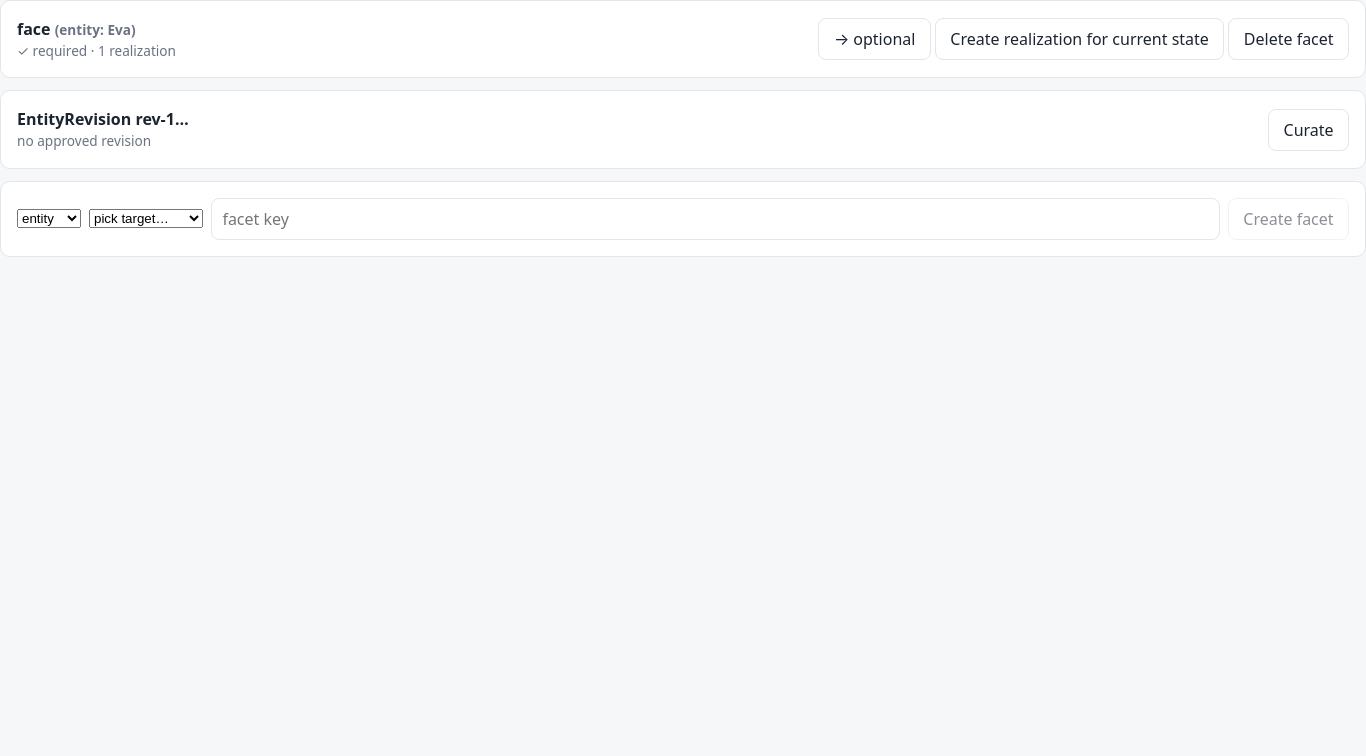
Test: AnchorCuration working-set editor (M8 §70) › loads working state, revisions, and separates approved authority
Click the button "Curate".
click(1309, 130)  # box x1=1268 y1=109 x2=1349 y2=151
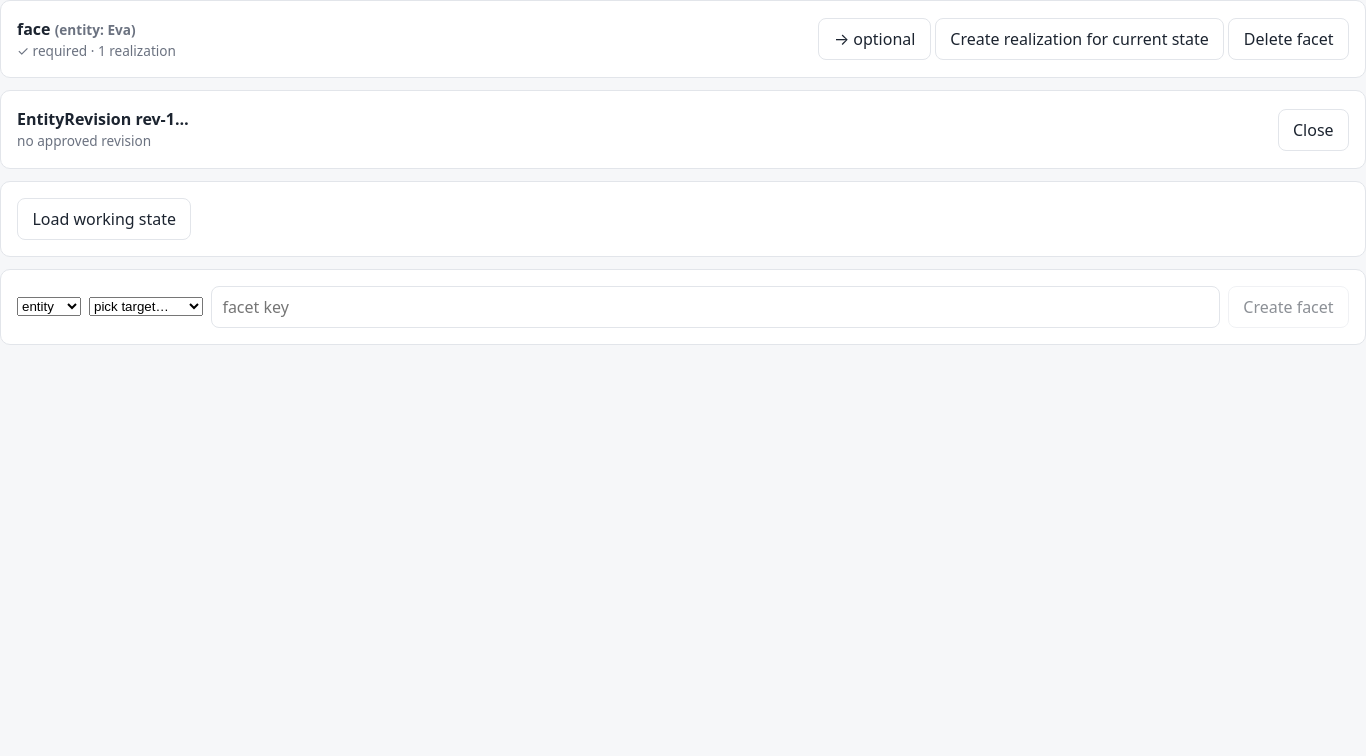
Click the button "Load working state".
click(104, 219)  # box x1=17 y1=198 x2=192 y2=240
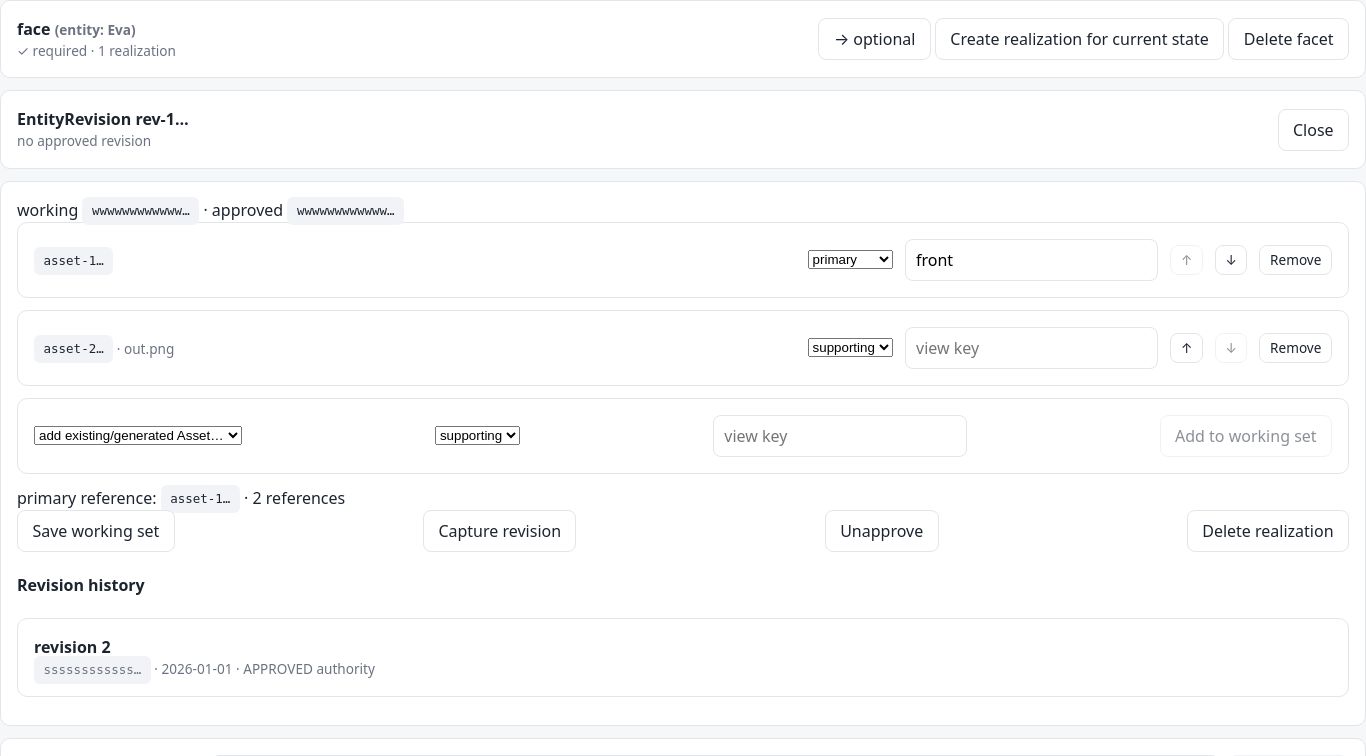
Expected: the text "Revision history" is shown, x1=17 y1=574 x2=145 y2=596
Expected: the text "revision 2" is shown, x1=34 y1=636 x2=111 y2=658
Expected: the text "APPROVED authority" is shown, x1=232 y1=659 x2=375 y2=678
